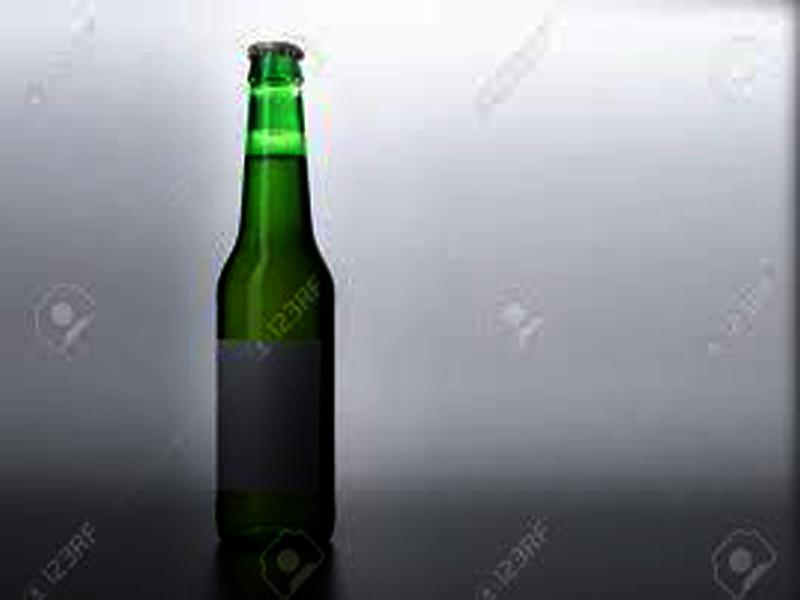Beer: (215, 42, 334, 545)
